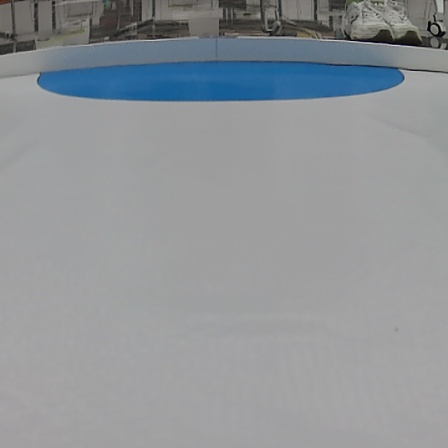blue_base: (37, 60, 407, 103)
